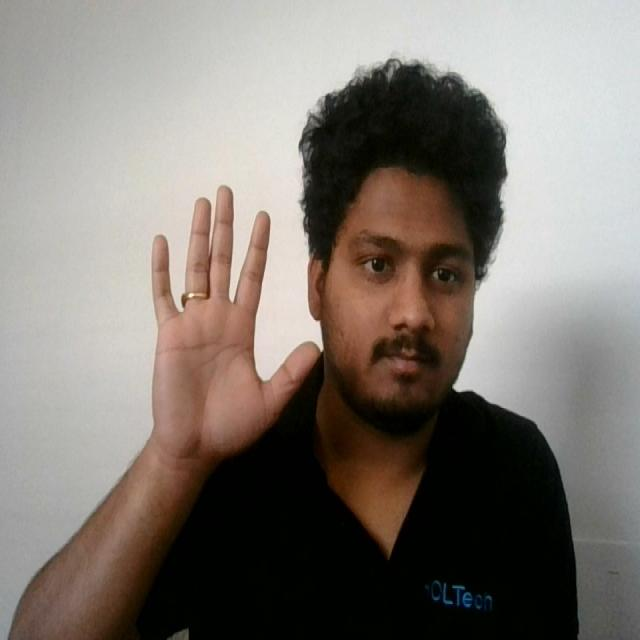Hello: (140, 176, 324, 478)
